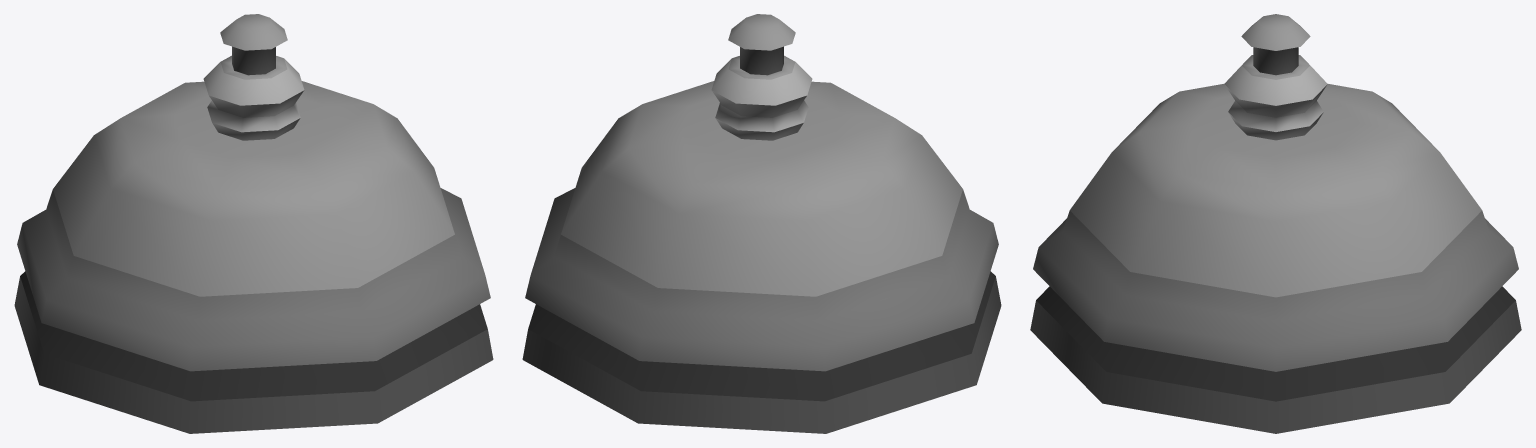
File: ServiceBell.fbx
3 views of the same model, side by side, from view 1: azimuth 30°, elevation 25°; view 2: azimuth 150°, elevation 25°; view 3: azimuth 270°, elevation 25° (orthographic).
Parts seen in each view (by area): view 1: ServiceBell; view 2: ServiceBell; view 3: ServiceBell.
Part boxes in pixels (x1=…): ServiceBell: x1=14, y1=14, x2=493, y2=433; ServiceBell: x1=522, y1=14, x2=1001, y2=433; ServiceBell: x1=1030, y1=14, x2=1521, y2=433.
Bounding box in the file's own units: 0.1758 × 0.1218 × 0.1758.
